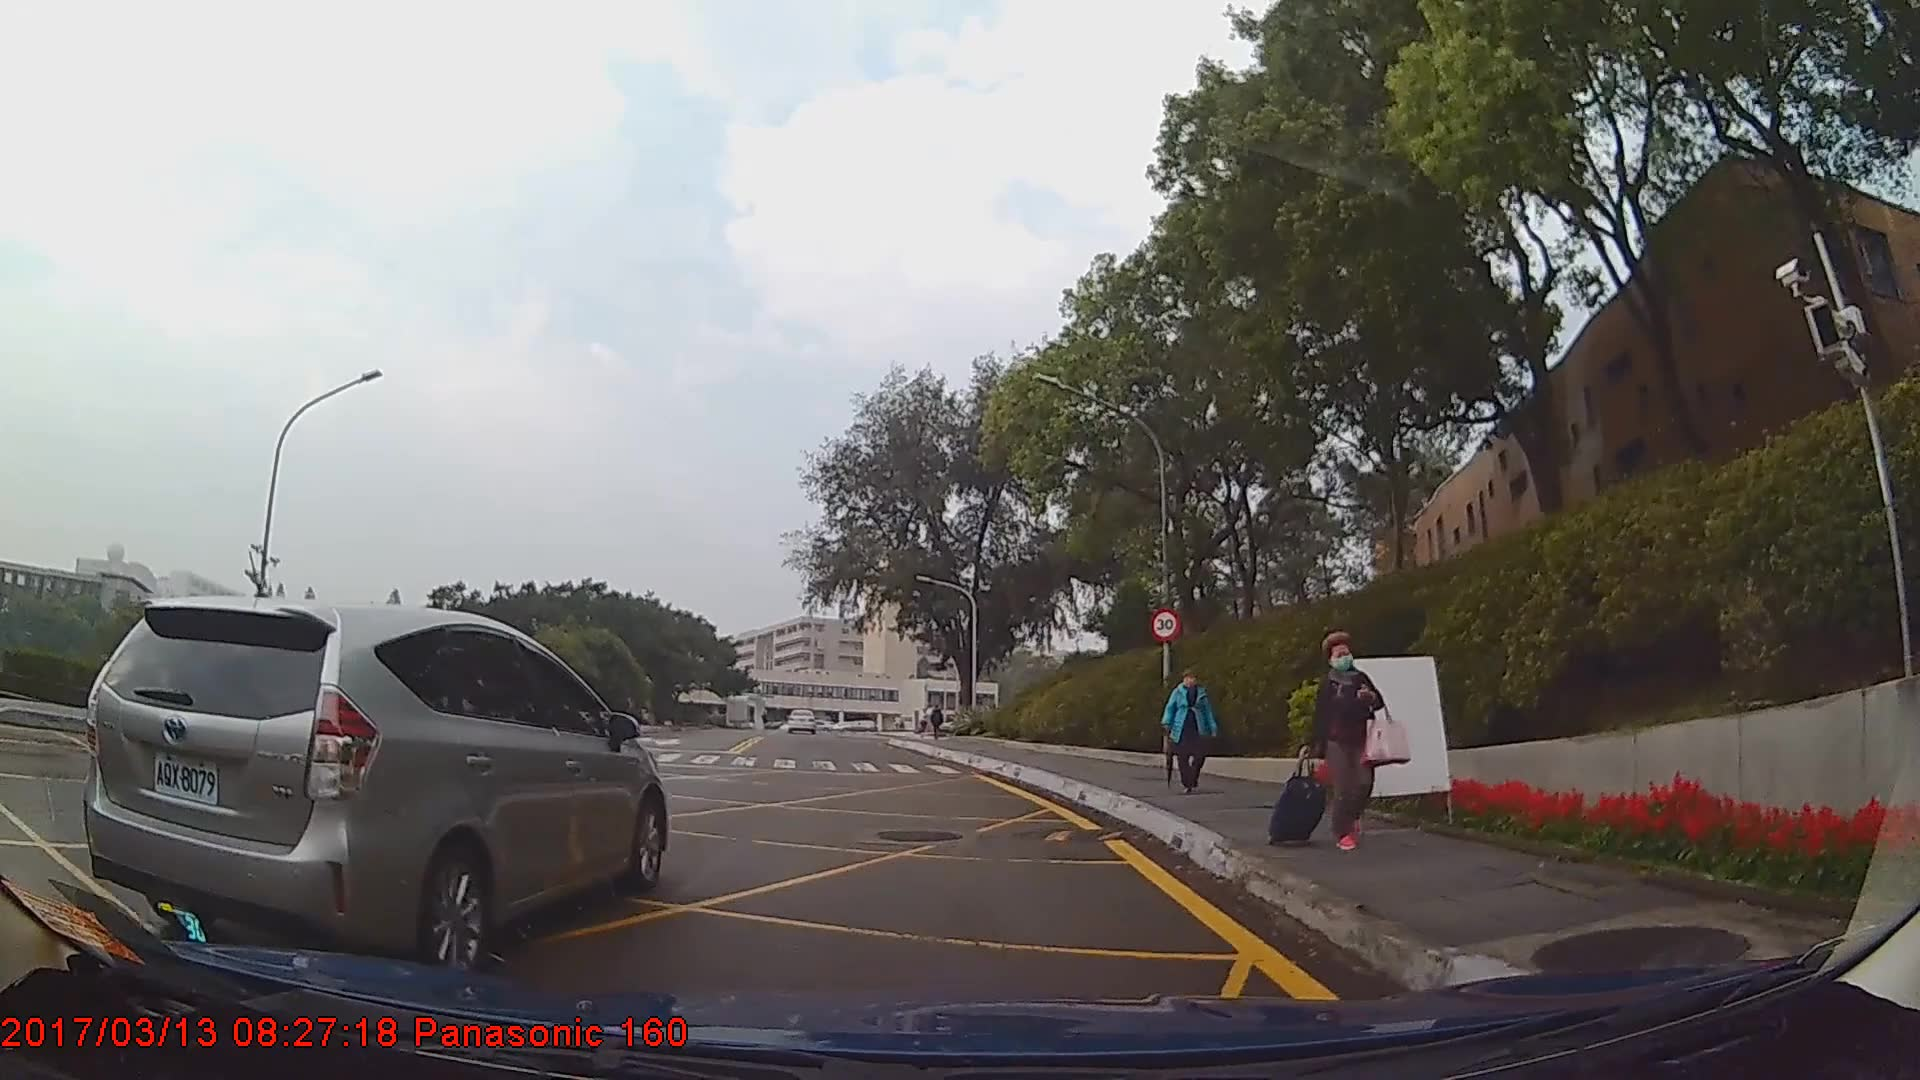pedestrian: (1269, 632, 1408, 850), (1158, 670, 1220, 796)
vehicle: (86, 594, 669, 972), (785, 705, 819, 732)
